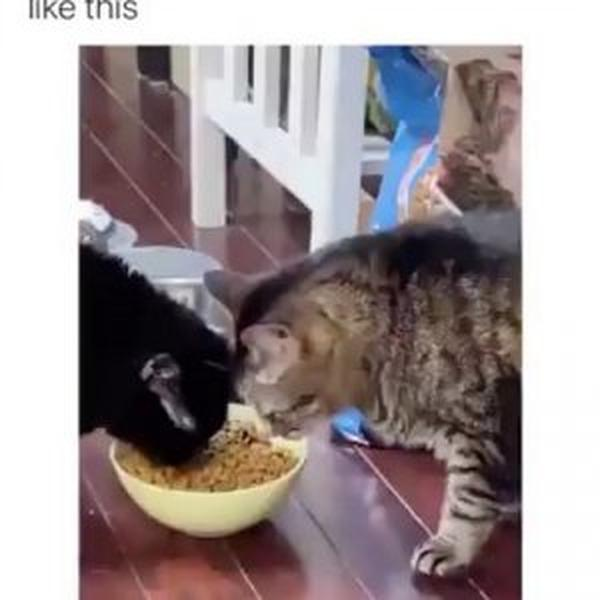michi: (197, 217, 518, 582)
